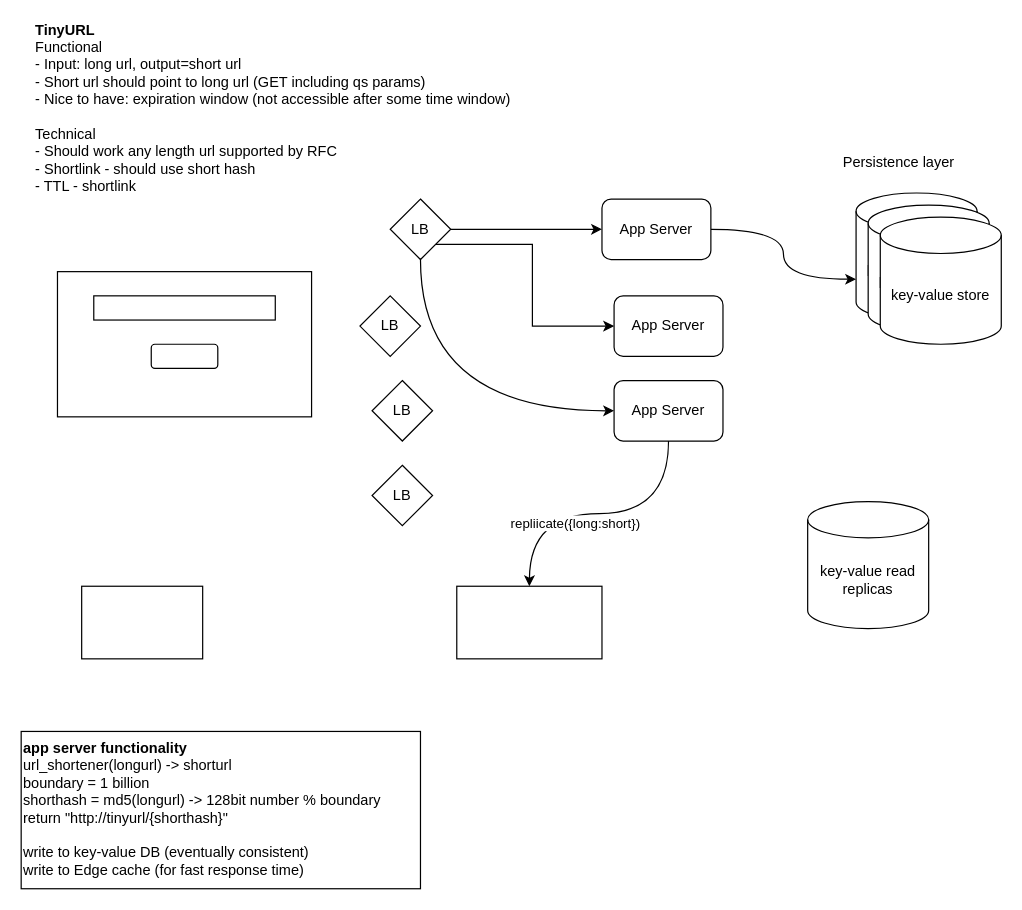
The diagram is 1022 pixels wide and 910 high, and some of its shapes have lost their labels. Here are the shapes that lost their labels. From the top down, the box of each, then its label:
(80, 585, 203, 659): another client
(456, 585, 602, 659): Edge cache servers (like Fastly)
